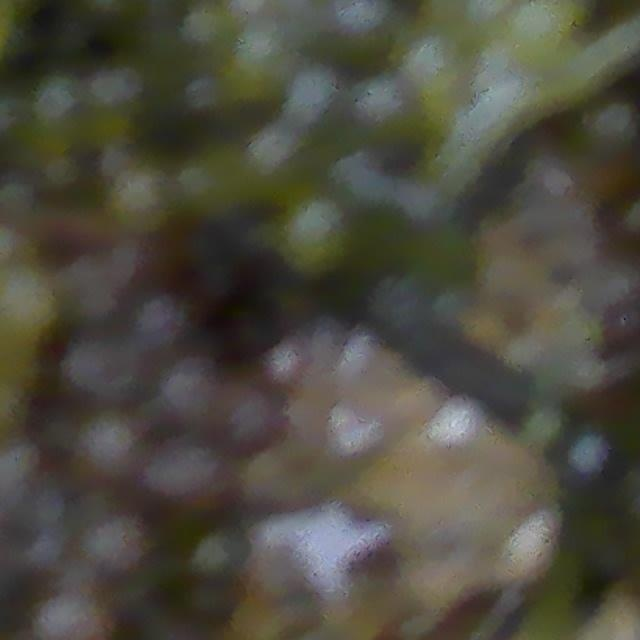SeaGrape: (138, 439, 228, 510), (277, 198, 353, 276), (78, 412, 140, 476), (84, 509, 144, 575), (32, 590, 107, 640), (222, 382, 269, 449), (158, 354, 211, 413)
